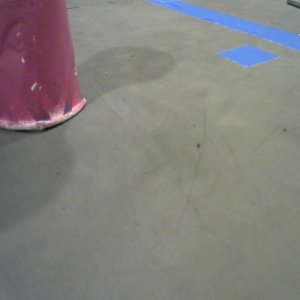middle: (1, 1, 86, 130)
